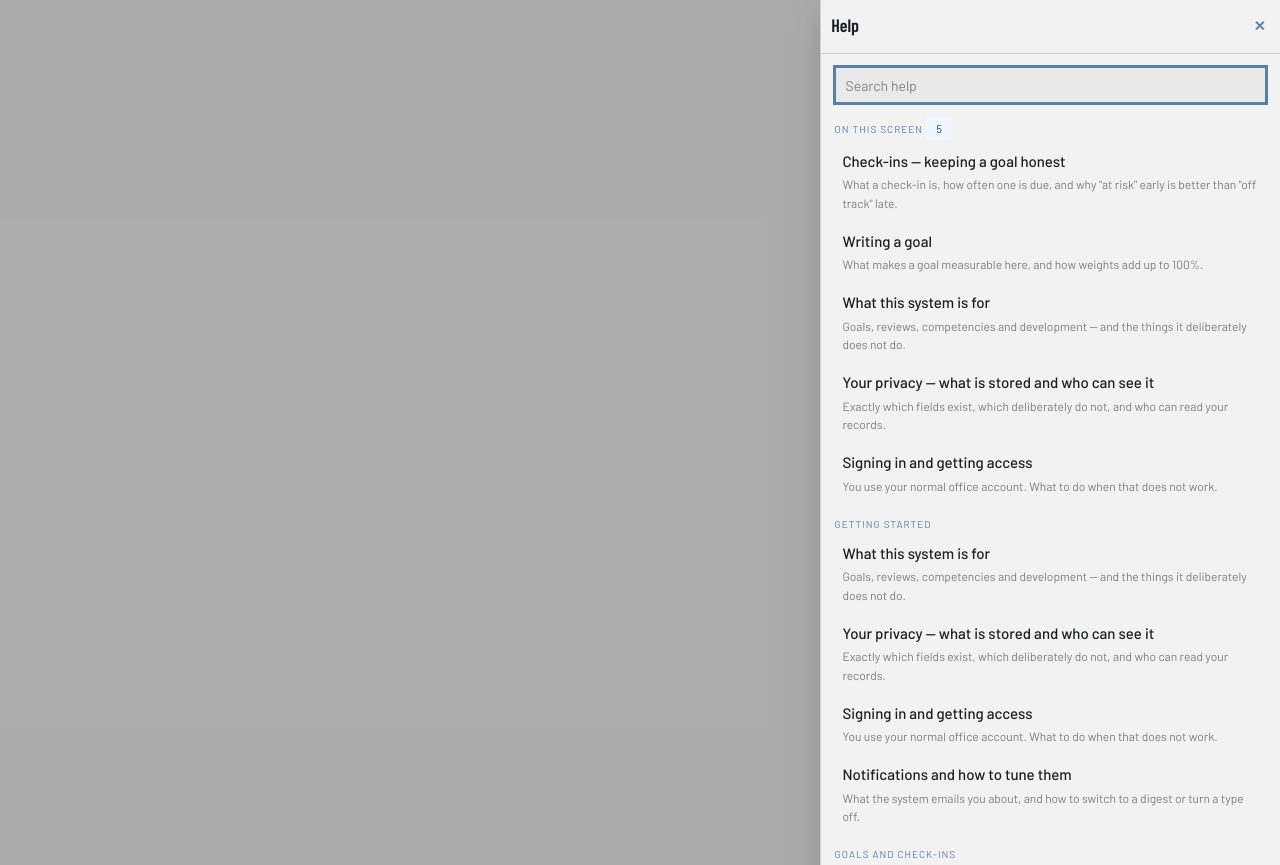
the drawer offers the right articles › searches titles, summaries and keywords
In the search field labelled "Search help": {"x": 1050, "y": 85} [835, 67, 1266, 103], type "weight"
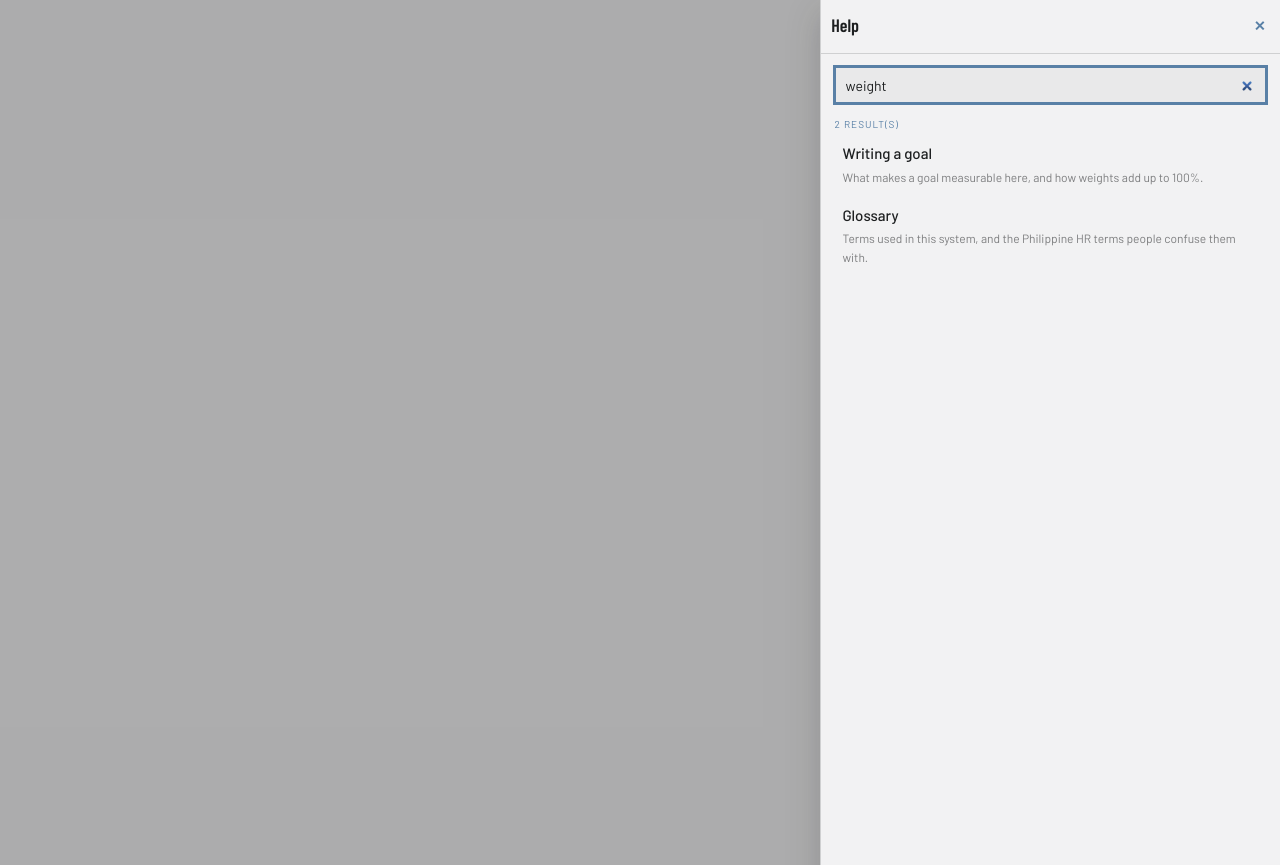
Expected: the text "Writing a goal" is shown, [842, 142, 932, 166]
Now the button "Signing in and getting access" is gone
